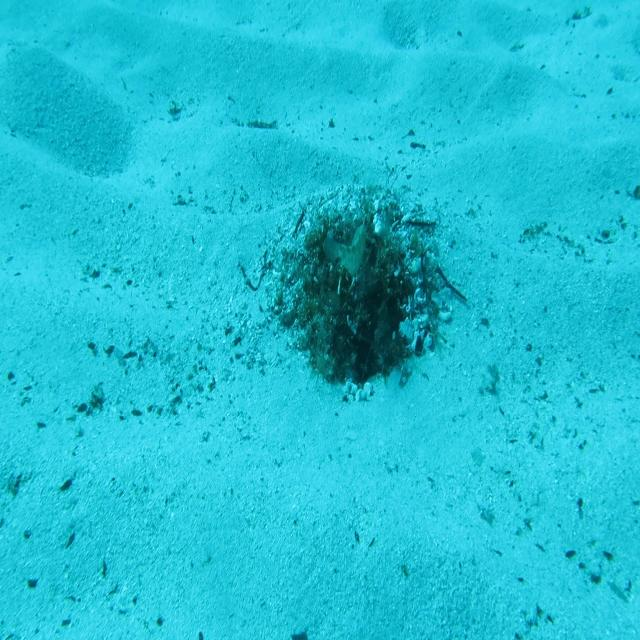NIP_CORE: (320, 213, 370, 282)
core_nest: (344, 220, 390, 266)
nest: (253, 176, 458, 408)
